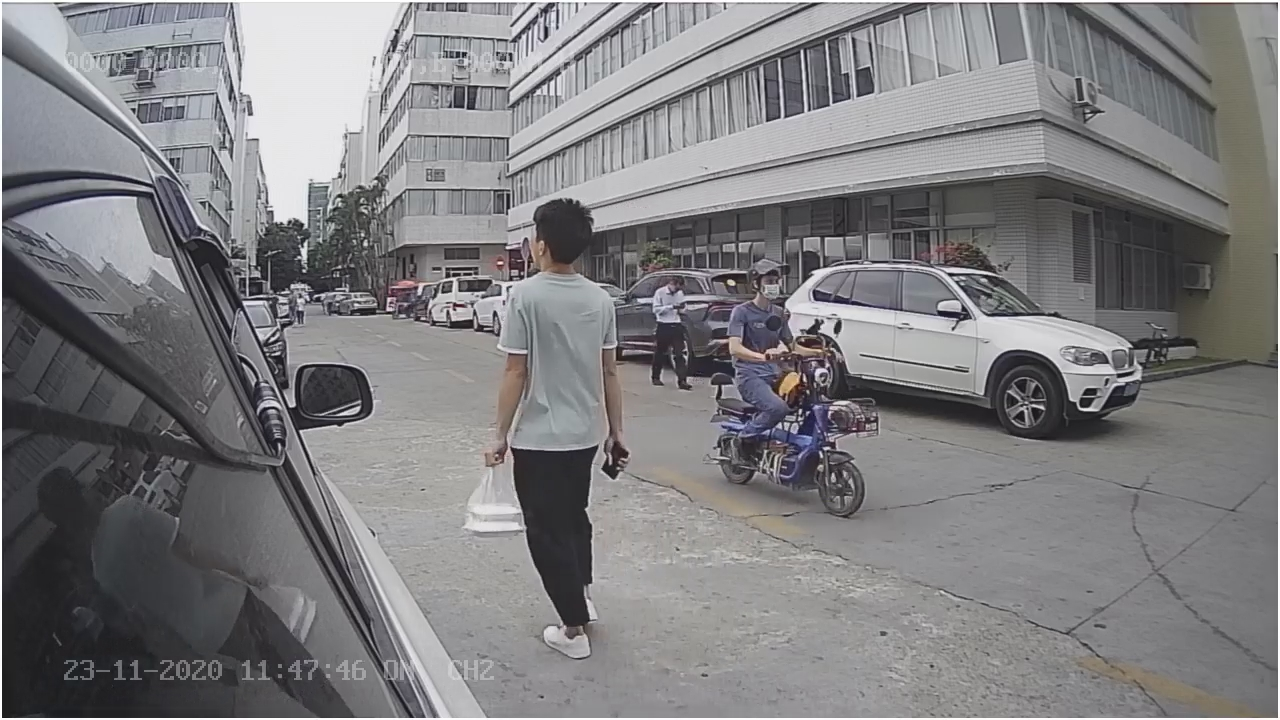person: (486, 173, 633, 656), (726, 245, 816, 362)
